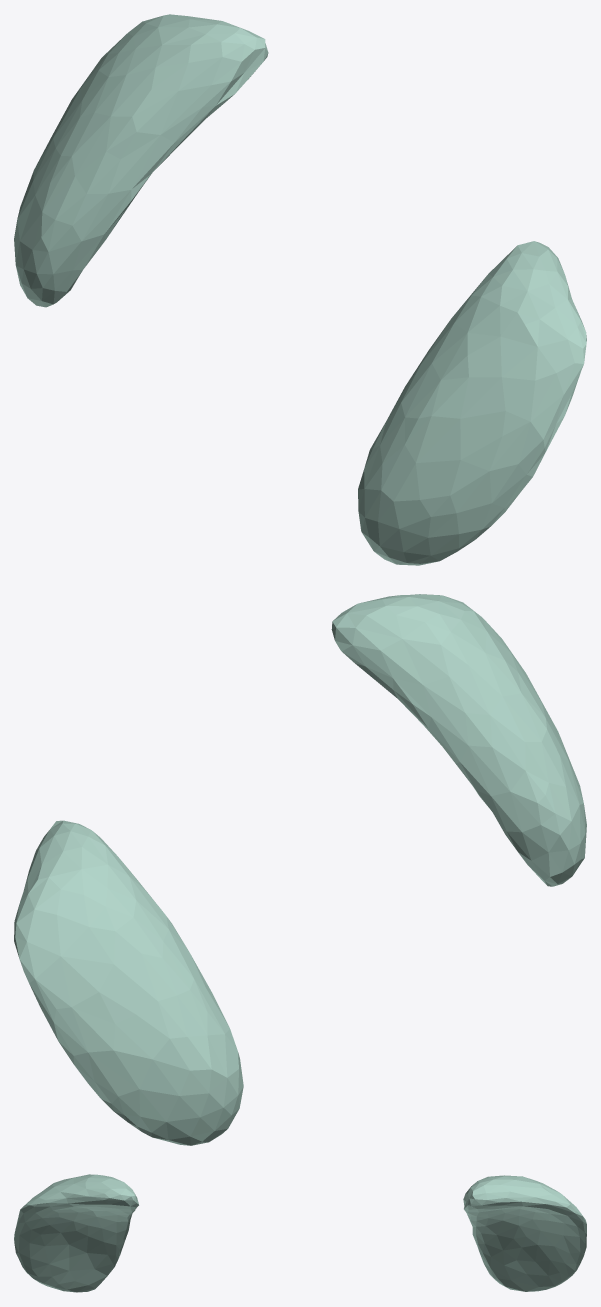
The picture shows the model from 3 angles, top to bottom: view 1: azimuth 30°, elevation 25°; view 2: azimuth 150°, elevation 25°; view 3: azimuth 270°, elevation 25°; orthographic projection. The views are drawn at different scales.
Visible parts, largest first — view 1: 196.obj; view 2: 196.obj; view 3: 196.obj.
Boxes of the visible parts, left/top/right/bottom form: 196.obj: left=14, top=14, right=586, bottom=565; 196.obj: left=14, top=594, right=586, bottom=1145; 196.obj: left=14, top=1174, right=586, bottom=1292.
Size of the model in its own units: 802 by 914 by 2998.
